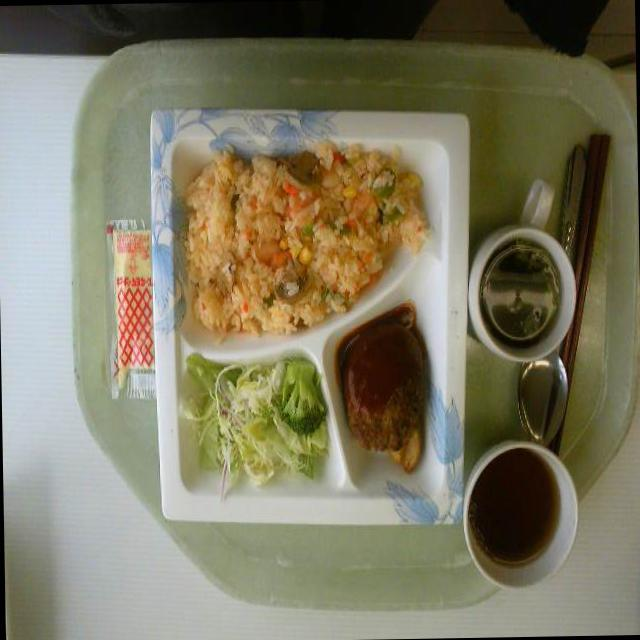Green Salad: (190, 352, 330, 491)
